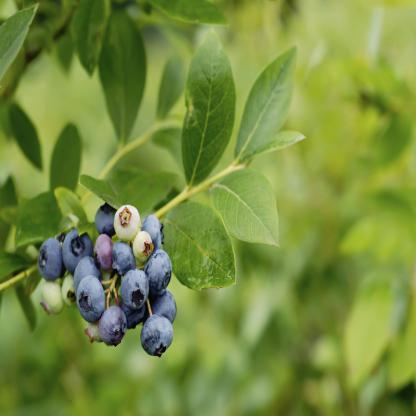blueberry leaf: (175, 24, 237, 185), (232, 41, 307, 163), (161, 207, 240, 297), (210, 166, 284, 251)
